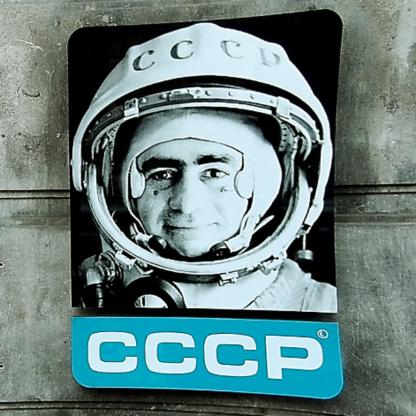Helmet: (72, 28, 328, 311)
